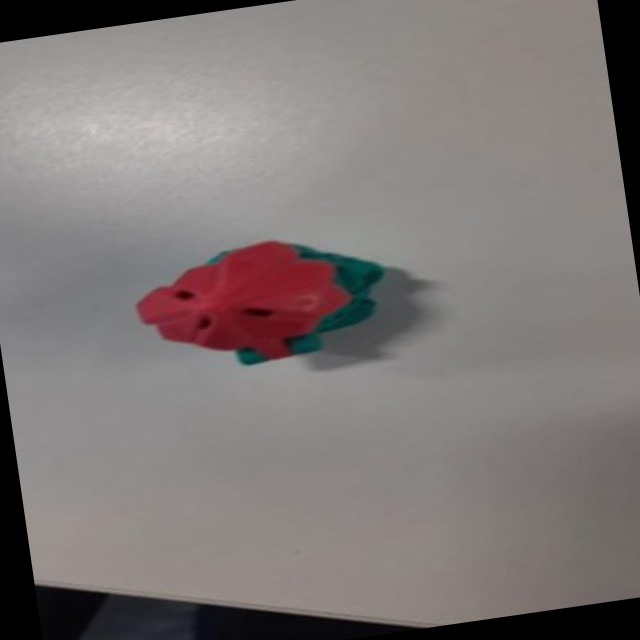House: (125, 222, 411, 382)
